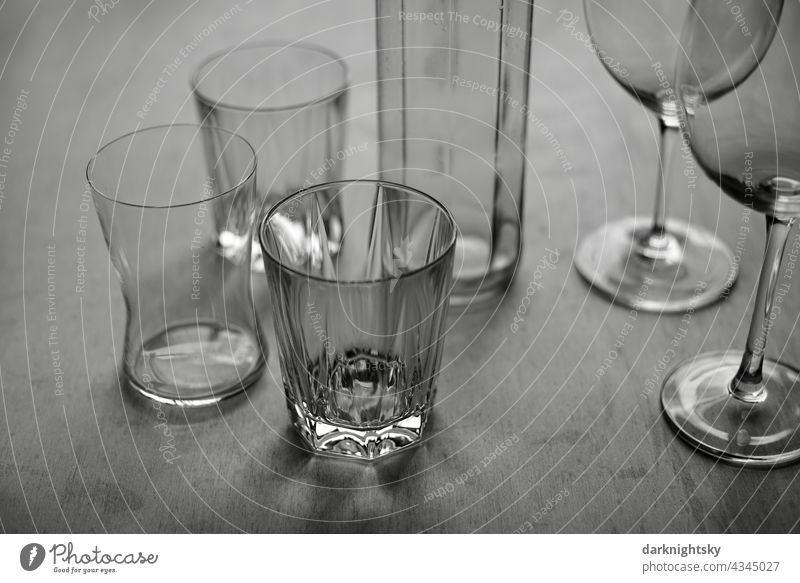glass: (569, 1, 782, 317), (659, 0, 799, 477), (247, 168, 459, 462), (70, 106, 270, 412), (375, 0, 536, 304), (178, 41, 355, 270)
